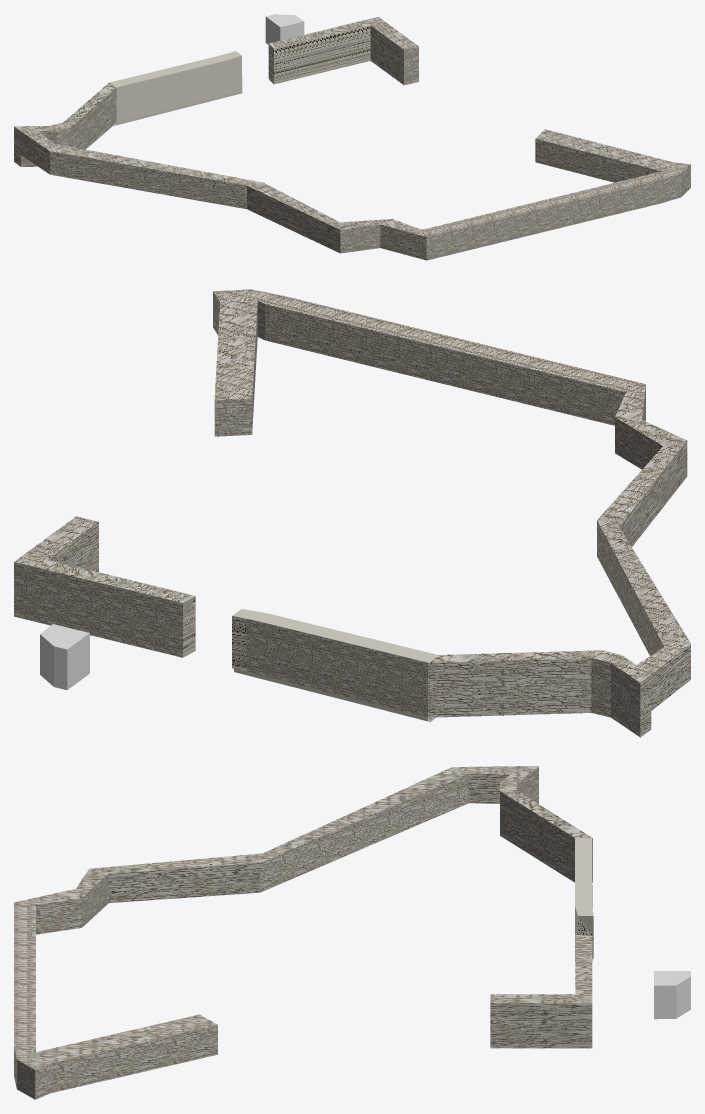
Rendered from muralla1.glb.
The picture shows the model from 3 angles, top to bottom: view 1: azimuth 30°, elevation 25°; view 2: azimuth 150°, elevation 25°; view 3: azimuth 270°, elevation 25°; orthographic projection. The views are drawn at different scales.
Visible parts, largest first — view 1: Cube.001, Cube; view 2: Cube.001, Cube; view 3: Cube.001, Cube.
Boxes of the visible parts, left/top/right/bottom form: Cube.001: left=14, top=16, right=690, bottom=260; Cube: left=265, top=14, right=304, bottom=44; Cube.001: left=14, top=289, right=690, bottom=737; Cube: left=40, top=624, right=89, bottom=689; Cube.001: left=14, top=766, right=593, bottom=1099; Cube: left=654, top=971, right=690, bottom=1019.
Size of the model in its own units: 397 by 30.2 by 386.
Materials: 1 (1 with a texture image).
